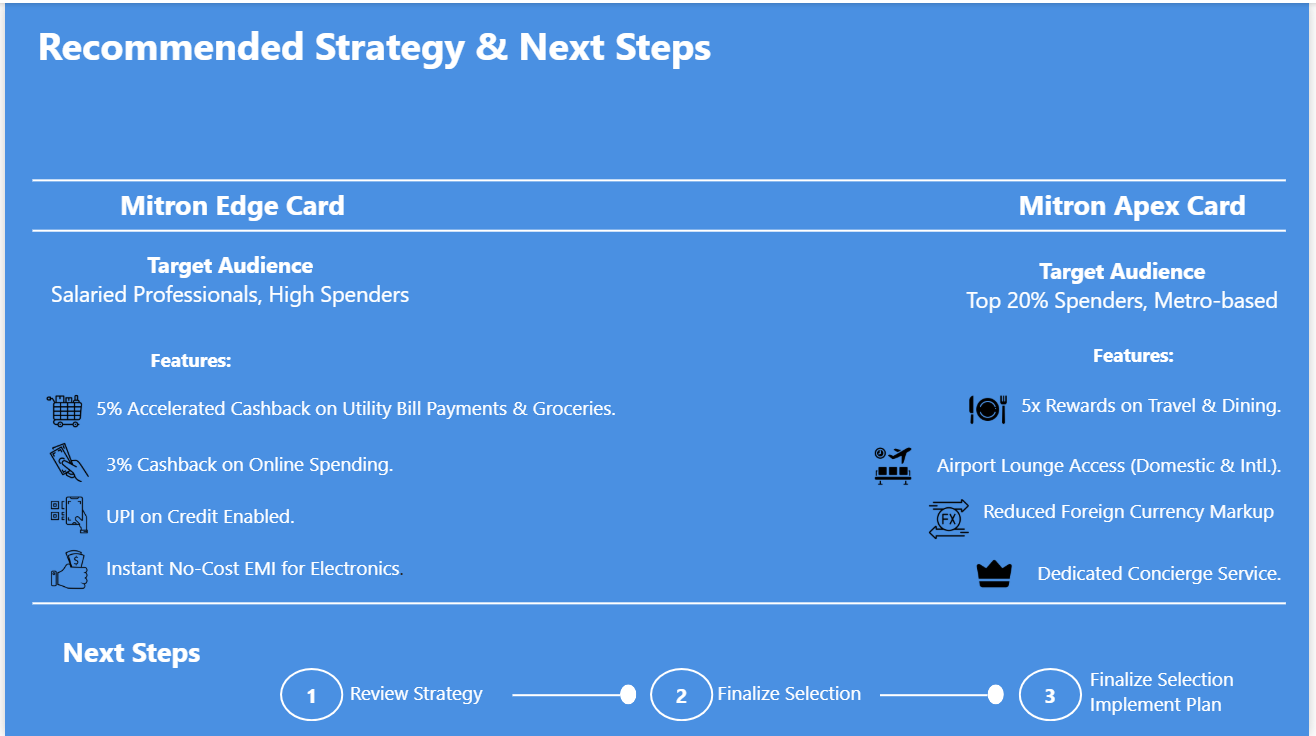

Layout of this report page (visuals, bound fields, positions):
{"tool":"powerbi","page":{"name":"Recommendation","canvas":[1280,720],"ordinal":5},"visuals":[{"type":"textbox","box":[27,11,712.9,108],"z":0},{"type":"textbox","box":[987.5,376.8,269.9,46],"z":0,"group":"g11"},{"type":"image","box":[32.3,427.2,62.2,48.5],"z":0,"group":"g1"},{"type":"image","box":[840.9,430.2,62.2,48.5],"z":0,"group":"g4"},{"type":"image","box":[32.3,479.1,62.2,48.5],"z":0,"group":"g2"},{"type":"image","box":[895.7,482.2,61.4,49.1],"z":0,"group":"g9"},{"type":"image","box":[32.3,530.9,62.2,49.8],"z":0,"group":"g3"},{"type":"image","box":[940.4,535.9,62.2,48.5],"z":0,"group":"g5"},{"type":"shape","box":[269.9,653.1,62.2,52.2],"z":0,"group":"g6"},{"type":"textbox","box":[100.8,173.7,262.5,47.3],"z":1000},{"type":"textbox","box":[84.7,379.2,526.4,38],"z":1000,"group":"g10"},{"type":"textbox","box":[94.5,434.7,301,41.1],"z":1000,"group":"g1"},{"type":"textbox","box":[903.1,435.2,354.5,42.3],"z":1000,"group":"g4"},{"type":"textbox","box":[948.5,481,309.2,60.1],"z":1000,"group":"g9"},{"type":"textbox","box":[94.5,486.6,237.6,41.1],"z":1000,"group":"g2"},{"type":"textbox","box":[94.5,535.9,316,44.8],"z":1000,"group":"g3"},{"type":"textbox","box":[995.1,540.9,262.5,39.8],"z":1000,"group":"g5"},{"type":"textbox","box":[333.3,659.3,164.2,39.8],"z":1000,"group":"g6"},{"type":"textbox","box":[985.2,174.2,242.6,47.3],"z":2000},{"type":"textbox","box":[32.3,236.8,378.2,92.1],"z":3000},{"type":"textbox","box":[936.7,242.3,320.9,79.6],"z":4000},{"type":"group","id":"g1","title":"Group 2","box":[32.3,427.2,363.2,48.5],"z":5000},{"type":"group","id":"g2","title":"Group 3","box":[32.3,479.1,299.8,48.5],"z":6000},{"type":"group","id":"g3","title":"Group 4","box":[32.3,530.9,378.2,49.8],"z":7000},{"type":"textbox","box":[32.3,332.2,301,39.8],"z":8000},{"type":"textbox","box":[956.6,328.2,301,39.8],"z":9000},{"type":"group","id":"g4","title":"Group 5","box":[840.9,430.2,416.7,48.5],"z":10000},{"type":"group","id":"g5","title":"Group 7","box":[940.4,535.9,317.2,48.5],"z":11000},{"type":"shape","box":[27.4,164.2,1230.3,118.2],"z":12000},{"type":"shape","box":[27.4,94.5,1230.3,159.2],"z":13000},{"type":"shape","box":[27.4,566,1230.3,47.3],"z":14000},{"type":"textbox","box":[51.5,613.5,169.3,45.4],"z":15000},{"type":"group","id":"g6","title":"Group 9","box":[269.9,653.1,227.6,52.2],"z":16000},{"type":"group","id":"g7","title":"Group 10","box":[632.6,653.1,225.8,52.2],"z":17000},{"type":"group","id":"g8","title":"Group 11","box":[995.2,645.6,235.1,67.2],"z":18000},{"type":"shape","box":[632.6,653.1,62.2,52.2],"z":19000,"group":"g7"},{"type":"shape","box":[497.6,656.8,105.7,46],"z":19000},{"type":"shape","box":[995.2,653.1,62.2,52.2],"z":20000,"group":"g8"},{"type":"shape","box":[858.3,656.8,105.7,46],"z":20000},{"type":"shape","box":[603.3,669.3,16.2,19.9],"z":21000},{"type":"textbox","box":[694.2,659.3,164.2,39.8],"z":21002,"group":"g7"},{"type":"textbox","box":[1059.9,645.6,170.4,67.2],"z":21003,"group":"g8"},{"type":"shape","box":[964.1,669.3,16.2,19.9],"z":22000},{"type":"group","id":"g9","title":"Group 6","box":[895.7,481,362,60.1],"z":23000},{"type":"group","id":"g10","title":"Group 1","box":[27,376.7,584.1,47.9],"z":24000},{"type":"group","id":"g11","title":"Group 8","box":[933.7,375.5,323.7,47.4],"z":25000},{"type":"image","box":[27,376.7,62.6,47.9],"z":25001,"group":"g10"},{"type":"image","box":[933.7,375.5,62.6,46.6],"z":25003,"group":"g11"}]}

Visuals, with their boxes in screenshot pixels (x1, y1, x2, y2), scaled from the page's 1280x720 canvas onto the 1316x736 screenshot:
textbox: [28,11,761,122]
textbox: [1015,385,1293,432]
image: [33,437,97,486]
image: [865,440,928,489]
image: [33,490,97,539]
image: [921,493,984,543]
image: [33,543,97,594]
image: [967,548,1031,597]
shape: [277,668,341,721]
textbox: [104,178,374,226]
textbox: [87,388,628,426]
textbox: [97,444,407,486]
textbox: [928,445,1293,488]
textbox: [975,492,1293,553]
textbox: [97,497,341,539]
textbox: [97,548,422,594]
textbox: [1023,553,1293,594]
textbox: [343,674,511,715]
textbox: [1013,178,1262,226]
textbox: [33,242,422,336]
textbox: [963,248,1293,329]
"Group 2" group: [33,437,407,486]
"Group 3" group: [33,490,341,539]
"Group 4" group: [33,543,422,594]
textbox: [33,340,343,380]
textbox: [984,335,1293,376]
"Group 5" group: [865,440,1293,489]
"Group 7" group: [967,548,1293,597]
shape: [28,168,1293,289]
shape: [28,97,1293,259]
shape: [28,579,1293,627]
textbox: [53,627,227,674]
"Group 9" group: [277,668,511,721]
"Group 10" group: [650,668,883,721]
"Group 11" group: [1023,660,1265,729]
shape: [650,668,714,721]
shape: [512,671,620,718]
shape: [1023,668,1087,721]
shape: [882,671,991,718]
shape: [620,684,637,705]
textbox: [714,674,883,715]
textbox: [1090,660,1265,729]
shape: [991,684,1008,705]
"Group 6" group: [921,492,1293,553]
"Group 1" group: [28,385,628,434]
"Group 8" group: [960,384,1293,432]
image: [28,385,92,434]
image: [960,384,1024,431]
